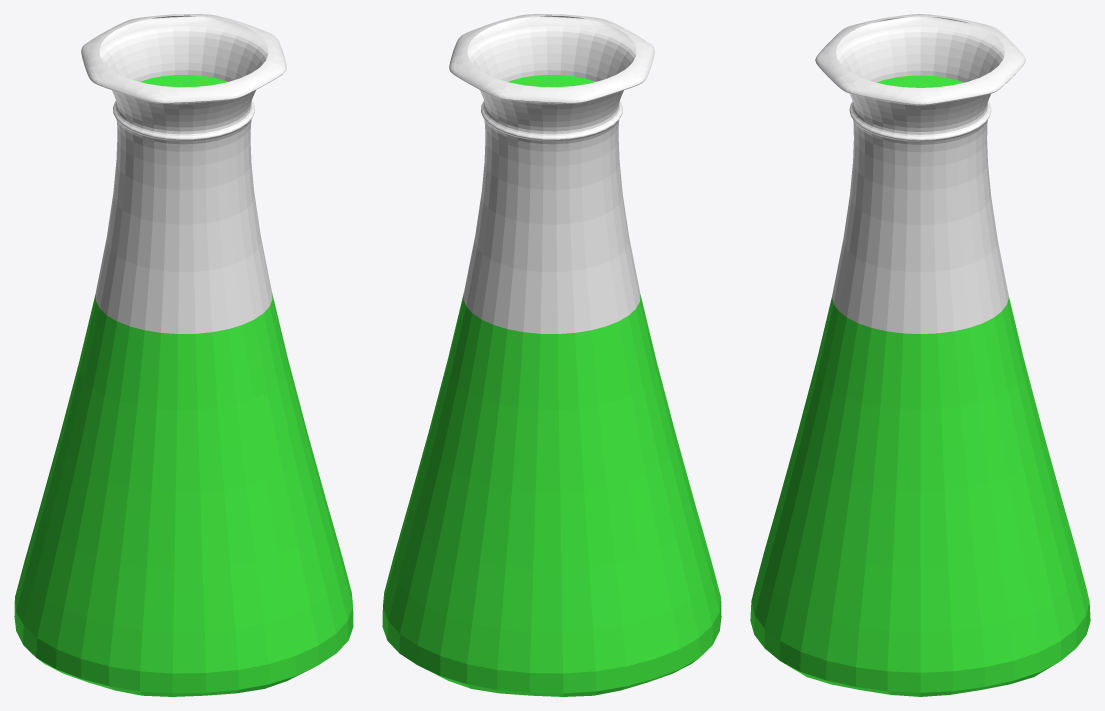
The model's file is Potion.fbx.
3 renders of one model, left to right at view 1: azimuth 30°, elevation 25°; view 2: azimuth 150°, elevation 25°; view 3: azimuth 270°, elevation 25°, orthographic.
Visible parts, largest first — view 1: Potion; view 2: Potion; view 3: Potion.
Boxes of the visible parts, x1,y1,x2,y2 form: Potion: [14, 14, 353, 696]; Potion: [382, 14, 721, 696]; Potion: [750, 14, 1090, 696].
Size of the model in its own units: 29.42 by 55.41 by 29.42.
